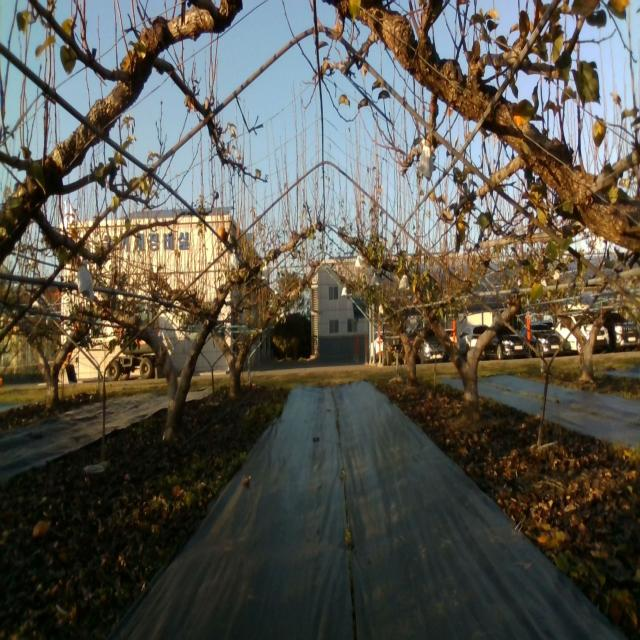pearbags: (77, 259, 95, 301), (419, 138, 434, 182), (229, 248, 239, 272)
